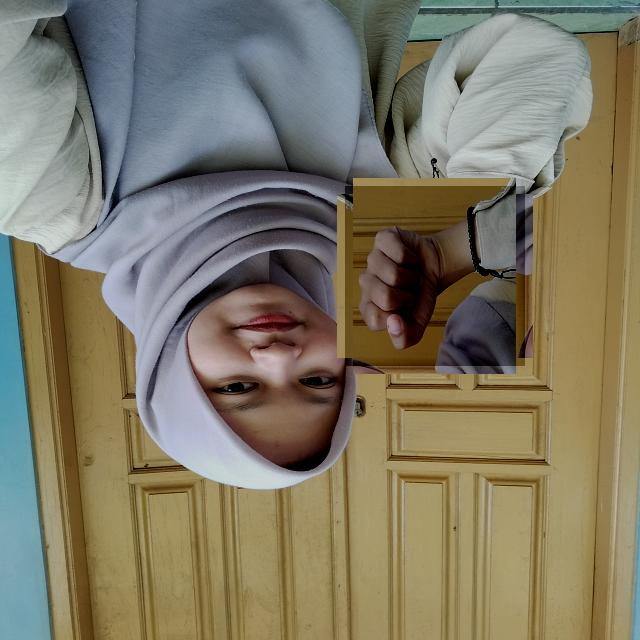baik: (345, 186, 525, 366)
